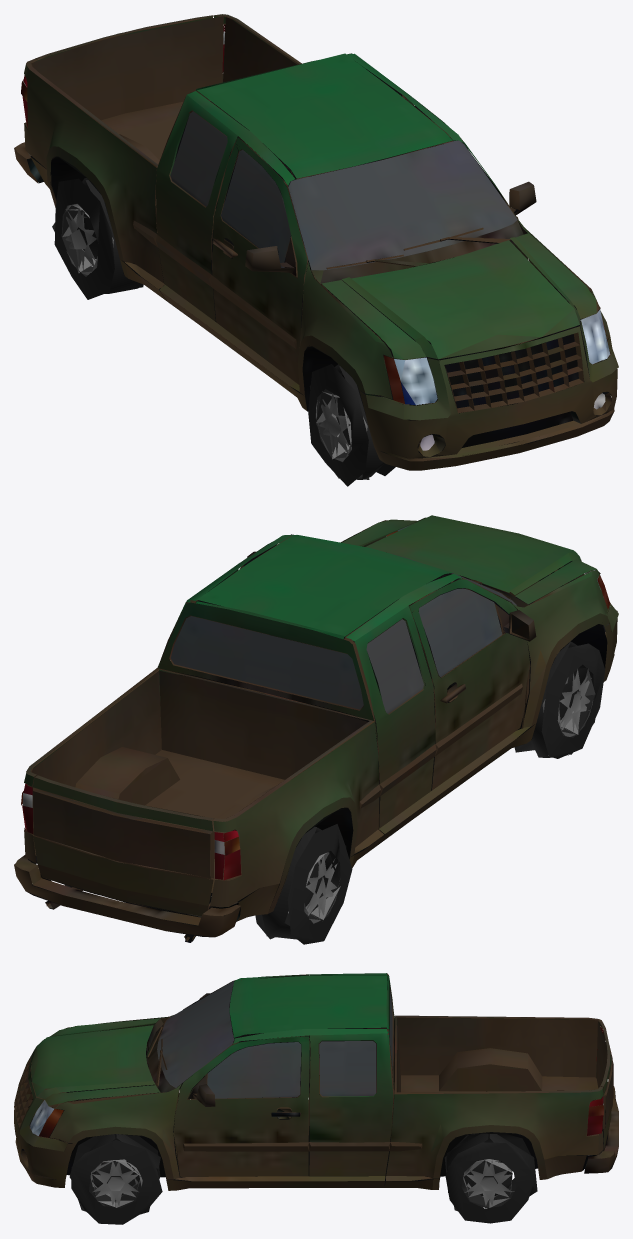
The model's file is pack-pickup-L3.glb.
3 renders of one model, top to bottom at view 1: azimuth 30°, elevation 25°; view 2: azimuth 150°, elevation 25°; view 3: azimuth 270°, elevation 25°, orthographic. The views are drawn at different scales.
Parts seen in each view (by area): view 1: body, wheel-back-left, wheel-front-left, wheel-front-left.1, wheel-back-left.1; view 2: body, wheel-back-left, wheel-front-left, wheel-front-left.1, wheel-back-left.1; view 3: body, wheel-back-right, wheel-front-right, wheel-front-right.1, wheel-back-right.1.
Boxes of the visible parts, x1,y1,x2,y2 form: body: (14, 14, 618, 470); wheel-back-left: (52, 178, 143, 299); wheel-front-left: (308, 364, 395, 486); wheel-front-left.1: (316, 391, 367, 461); wheel-back-left.1: (62, 204, 113, 275); body: (14, 515, 618, 942); wheel-back-left: (255, 824, 352, 944); wheel-front-left: (514, 641, 605, 758); wheel-front-left.1: (542, 668, 595, 736); wheel-back-left.1: (288, 852, 340, 923); body: (14, 973, 618, 1190); wheel-back-right: (444, 1133, 537, 1223); wheel-front-right: (69, 1134, 162, 1224); wheel-front-right.1: (90, 1159, 142, 1207); wheel-back-right.1: (463, 1159, 514, 1207).
Size of the model in its own units: 2.07 by 1.76 by 5.18.
Materials: 3 (1 with a texture image).
